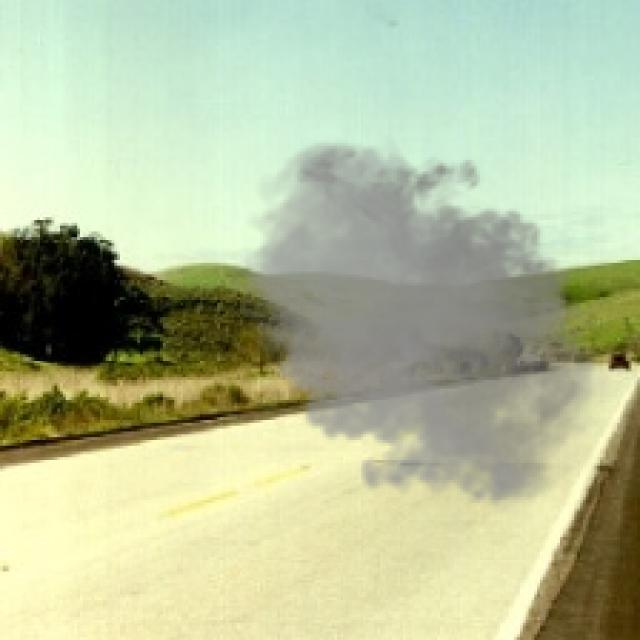smoke: (231, 134, 623, 517)
